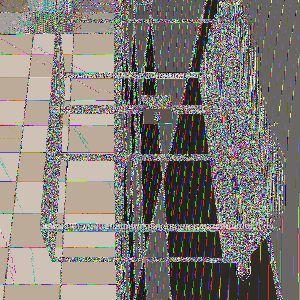Rack: (22, 36, 262, 281)
